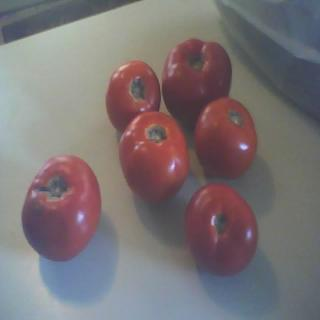tomato: (20, 155, 101, 259), (115, 104, 191, 208), (184, 182, 260, 278), (161, 38, 230, 128), (194, 97, 257, 178), (105, 58, 162, 133)
